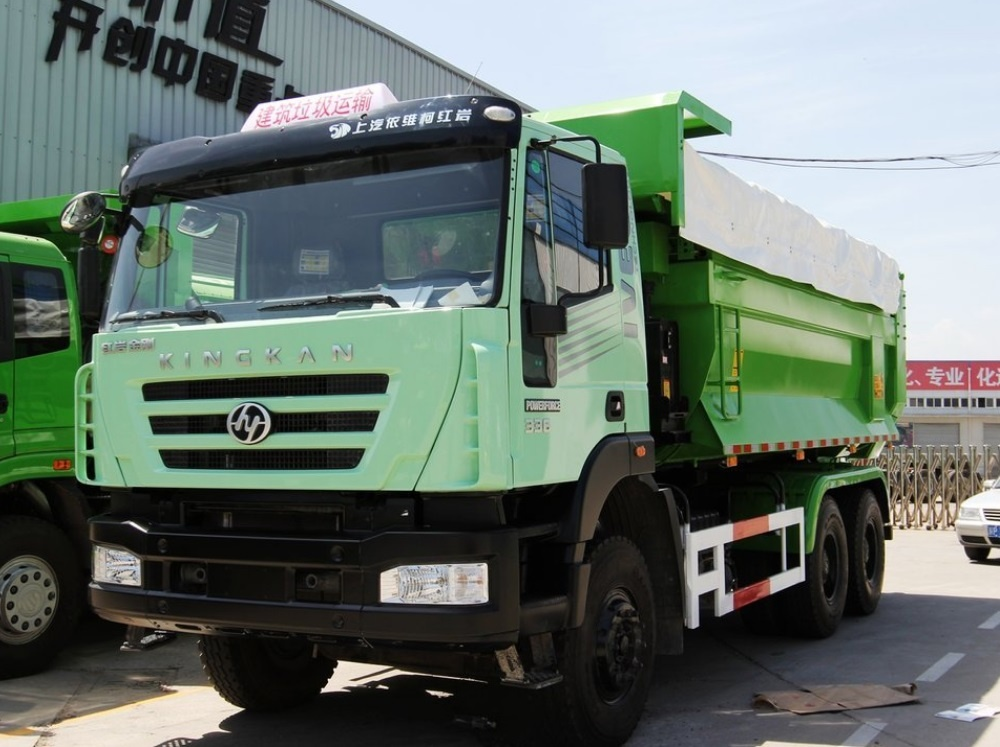heavy truck: (77, 46, 908, 715)
